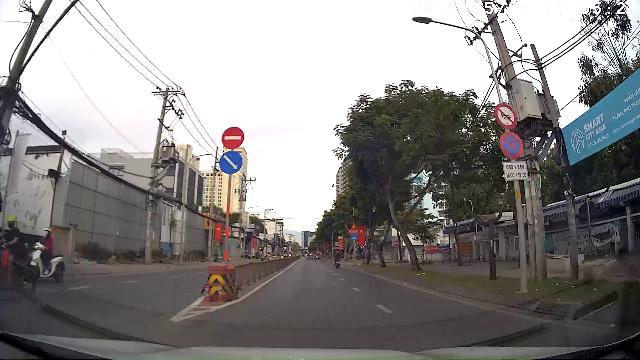102-cam-di-nguoc-chieu: (221, 126, 244, 149)
128-cam-su-dung-coi: (495, 104, 517, 129)
130-cam-dung-va-do-xe: (500, 131, 524, 159)
302a-huong-phai-di-vong-chuong-ngai-vat-1: (220, 151, 243, 174)
